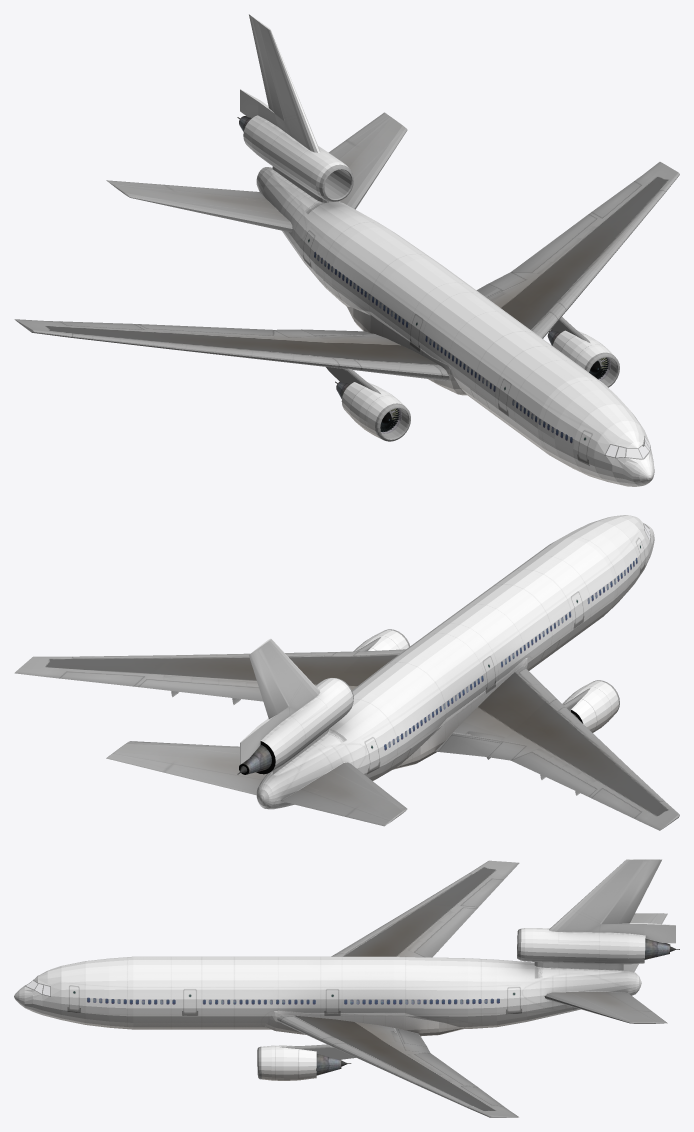
The picture shows the model from 3 angles, top to bottom: view 1: azimuth 30°, elevation 25°; view 2: azimuth 150°, elevation 25°; view 3: azimuth 270°, elevation 25°; orthographic projection. The views are drawn at different scales.
Parts seen in each view (by area): view 1: DC-10-30-fuselage.ac:DefaultWhite (×2), DC-10-wings.ac:DefaultWhite, DC-10-vstab.ac:DefaultWhite (×2), DC-10-hstab.ac:DefaultWhite, DC-10-engine-nacelle.ac:DefaultWhite (×2), DC-10-engine-nacelle.ac:Metal; view 2: DC-10-30-fuselage.ac:DefaultWhite (×2), DC-10-wings.ac:DefaultWhite, DC-10-hstab.ac:DefaultWhite, DC-10-vstab.ac:DefaultWhite (×2), DC-10-engine-nacelle.ac:DefaultWhite; view 3: DC-10-30-fuselage.ac:DefaultWhite (×2), DC-10-wings.ac:DefaultWhite, DC-10-vstab.ac:DefaultWhite (×2), DC-10-hstab.ac:DefaultWhite, DC-10-engine-nacelle.ac:DefaultWhite (×2), DC-10-engine-nacelle.ac:Metal.
Boxes of the visible parts, x1,y1,x2,y2 form: DC-10-30-fuselage.ac:DefaultWhite (×2): (256,167,654,486); DC-10-wings.ac:DefaultWhite: (14,162,679,380); DC-10-vstab.ac:DefaultWhite (×2): (237,14,353,202); DC-10-hstab.ac:DefaultWhite: (106,112,407,232); DC-10-engine-nacelle.ac:DefaultWhite (×2): (335,330,619,441); DC-10-engine-nacelle.ac:Metal: (326,317,590,393); DC-10-30-fuselage.ac:DefaultWhite (×2): (256,515,654,809); DC-10-wings.ac:DefaultWhite: (14,649,679,830); DC-10-hstab.ac:DefaultWhite: (106,741,407,826); DC-10-vstab.ac:DefaultWhite (×2): (238,638,353,774); DC-10-engine-nacelle.ac:DefaultWhite: (354,630,618,732); DC-10-30-fuselage.ac:DefaultWhite (×2): (14,956,641,1036); DC-10-wings.ac:DefaultWhite: (277,860,519,1117); DC-10-vstab.ac:DefaultWhite (×2): (517,859,679,970); DC-10-hstab.ac:DefaultWhite: (544,913,667,1023); DC-10-engine-nacelle.ac:DefaultWhite (×2): (257,1045,351,1080); DC-10-engine-nacelle.ac:Metal: (280,1044,355,1059).
Size of the model in its own units: 50.3 by 16.42 by 55.45.
Materials: 24 (9 with a texture image).
